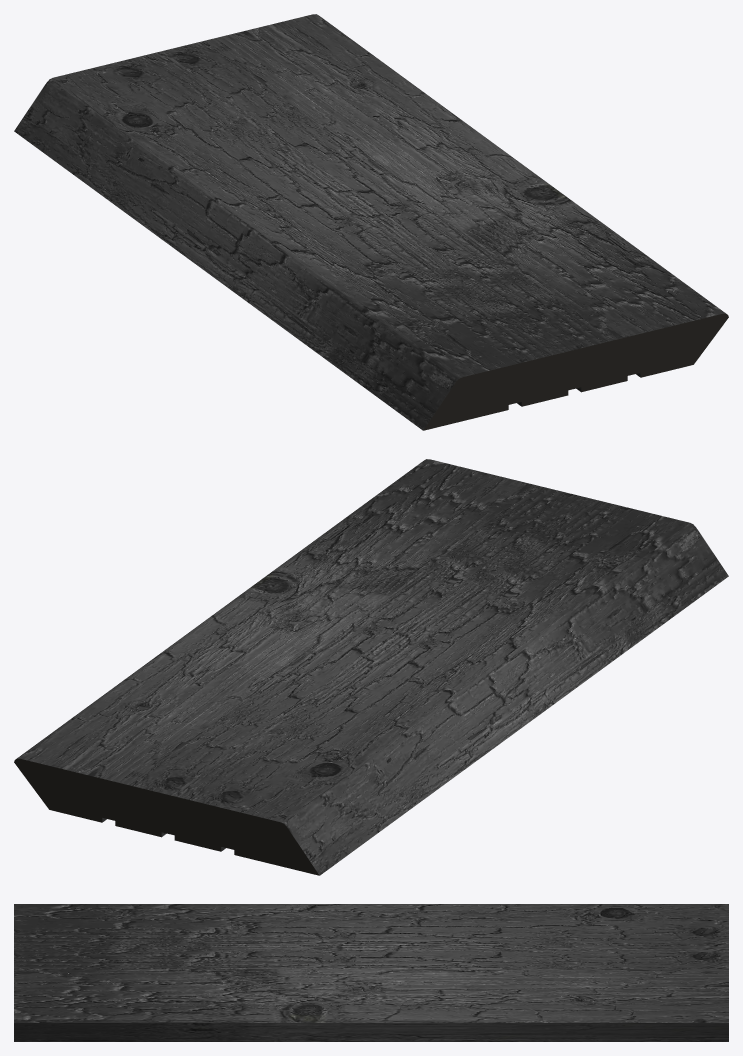
Rendered from spruce-facade-rhombus-carbon.glb.
3 views of the same model, one above another, from view 1: azimuth 30°, elevation 25°; view 2: azimuth 150°, elevation 25°; view 3: azimuth 270°, elevation 25° (orthographic). The views are drawn at different scales.
Parts seen in each view (by area): view 1: Rombas; view 2: Rombas; view 3: Rombas.
Part boxes in pixels (left/top/right/bottom): Rombas: left=14, top=14, right=728, bottom=430; Rombas: left=14, top=459, right=728, bottom=875; Rombas: left=14, top=904, right=728, bottom=1041.
Bounding box in the file's own units: 0.0723 × 0.00995 × 0.1675.
3 materials, 1 textured.
